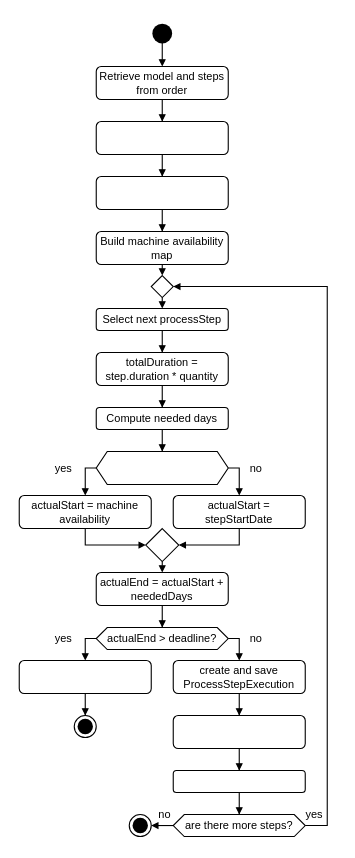
This 355x858 diagram has some shape labels left out. The shapes that lost their labels are listed below. From the top down, each one's centre as x and y in pixels, then its label:
point (161, 137): stepStartDate = order.startDate
point (161, 192): Load machine availability from existing executions
point (161, 467): machine available after stepStartDate?
point (84, 676): throws exception "Cannot schedule order"
point (238, 731): update machine availability
point (238, 781): stepStartDate = actualEnd
